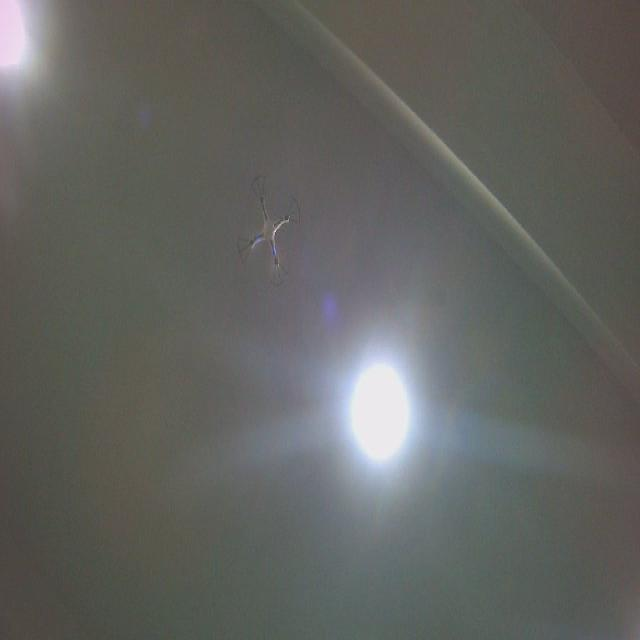drone: (234, 172, 304, 288)
